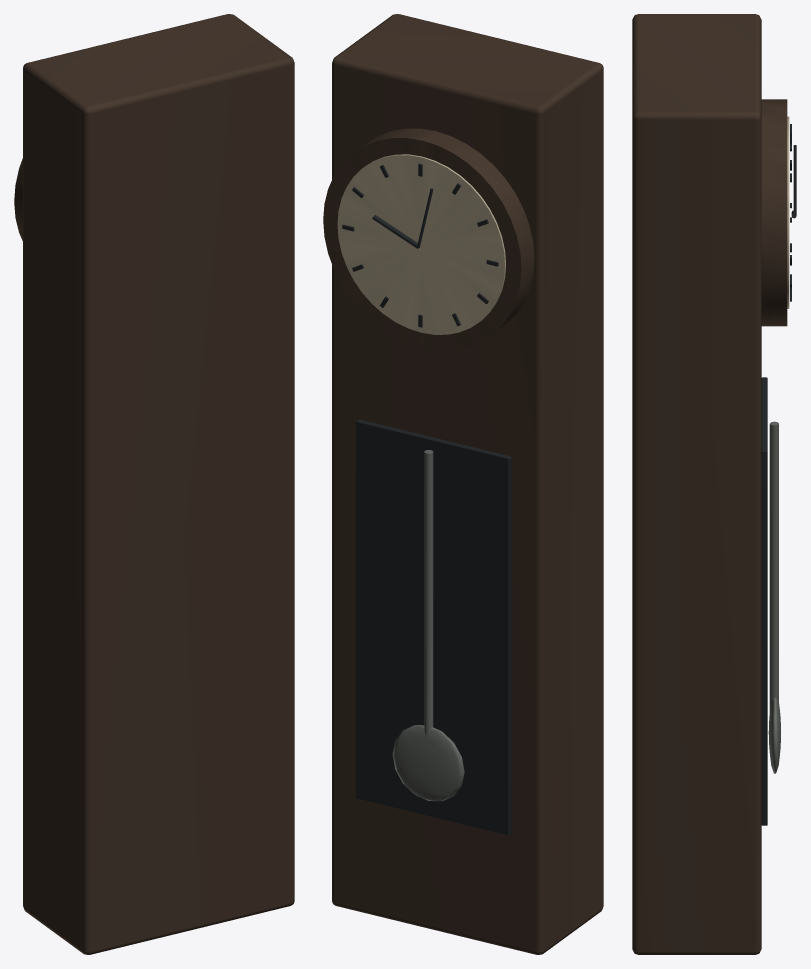
The model's file is prop-pendulum-clock-v01.glb.
3 views of the same model, side by side, from view 1: azimuth 30°, elevation 25°; view 2: azimuth 150°, elevation 25°; view 3: azimuth 270°, elevation 25° (orthographic).
Parts seen in each view (by area): view 1: pendulum-clock; view 2: pendulum-clock; view 3: pendulum-clock.
Boxes of the visible parts, left/top/right/bottom form: pendulum-clock: left=14, top=14, right=294, bottom=954; pendulum-clock: left=323, top=14, right=603, bottom=954; pendulum-clock: left=632, top=14, right=796, bottom=954.
Bounding box in the file's own units: 0.47 × 1.8 × 0.318.
